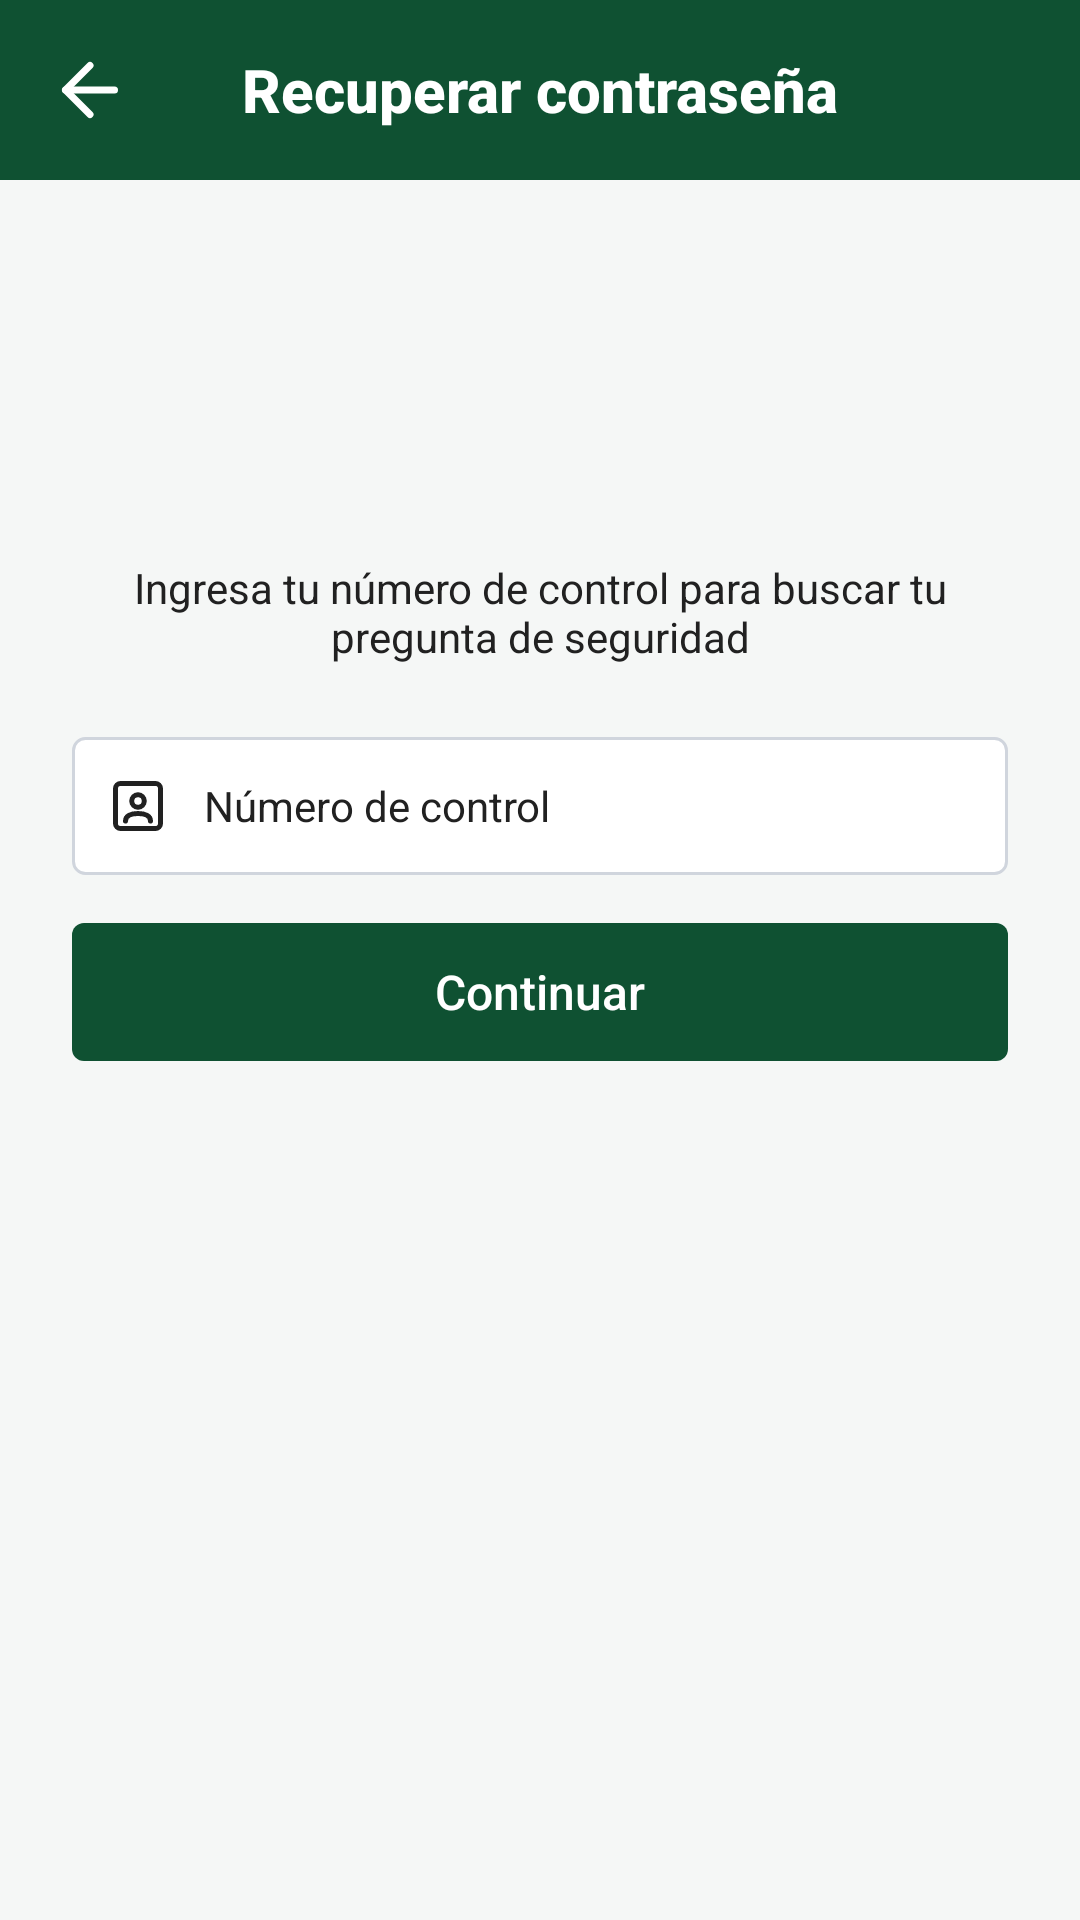

Where icons sit on this 1080 x 1920 app screen, as (x1, y1, x2, y2):
flecha atras: (62, 61, 118, 119)
